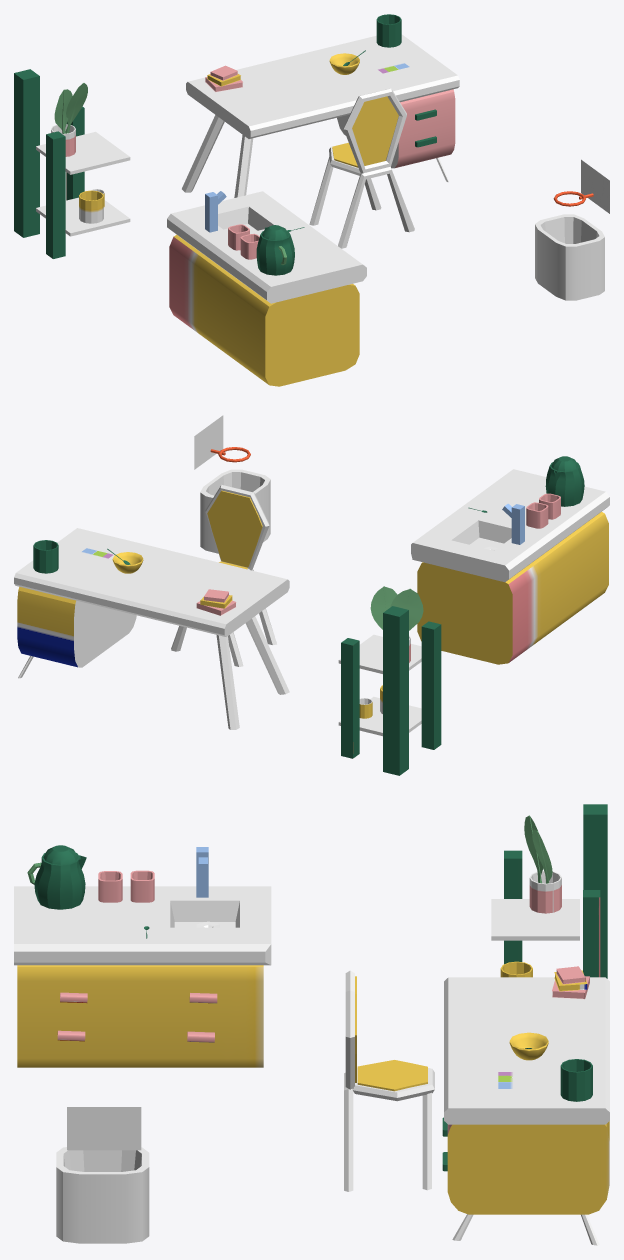
Rendered from 3D_Environment.fbx.
3 renders of one model, top to bottom at view 1: azimuth 30°, elevation 25°; view 2: azimuth 150°, elevation 25°; view 3: azimuth 270°, elevation 25°, orthographic. The views are drawn at different scales.
Parts seen in each view (by area): view 1: Desk, kitchen, stand, bench, chair2, tin1, leg, Kettle, backboard, cup1, cup, tap2 (+2 smaller); view 2: Desk, kitchen, stand, bench, chair2, tin1, leg, Kettle, backboard, cup1, plant, tap2 (+3 smaller); view 3: Desk, kitchen, bench, stand, tin1, chair2, backboard, Kettle, cup1, bowl, tin2, tin (+2 smaller).
Part boxes in pixels (x1=…): Desk: x1=186, y1=34, x2=459, y2=168; kitchen: x1=169, y1=234, x2=359, y2=386; stand: x1=14, y1=69, x2=130, y2=258; bench: x1=167, y1=191, x2=366, y2=303; chair2: x1=309, y1=88, x2=414, y2=248; tin1: x1=535, y1=214, x2=604, y2=300; leg: x1=182, y1=115, x2=253, y2=197; Kettle: x1=256, y1=225, x2=294, y2=275; backboard: x1=581, y1=159, x2=609, y2=213; cup1: x1=376, y1=14, x2=401, y2=47; cup: x1=79, y1=190, x2=103, y2=223; tap2: x1=205, y1=191, x2=226, y2=232; Desk: x1=14, y1=528, x2=289, y2=667; kitchen: x1=417, y1=511, x2=608, y2=664; stand: x1=338, y1=606, x2=441, y2=775; bench: x1=411, y1=469, x2=609, y2=582; chair2: x1=171, y1=484, x2=276, y2=666; tin1: x1=200, y1=469, x2=270, y2=553; leg: x1=216, y1=616, x2=289, y2=729; Kettle: x1=545, y1=456, x2=584, y2=506; backboard: x1=194, y1=415, x2=223, y2=469; cup1: x1=33, y1=540, x2=58, y2=573; plant: x1=390, y1=588, x2=423, y2=630; tap2: x1=502, y1=503, x2=524, y2=544; Desk: x1=442, y1=977, x2=609, y2=1214; kitchen: x1=17, y1=965, x2=263, y2=1067; bench: x1=14, y1=886, x2=271, y2=965; stand: x1=491, y1=804, x2=607, y2=978; tin1: x1=56, y1=1147, x2=149, y2=1243; chair2: x1=344, y1=970, x2=434, y2=1191; backboard: x1=67, y1=1107, x2=141, y2=1150; Kettle: x1=27, y1=845, x2=86, y2=909; cup1: x1=560, y1=1059, x2=592, y2=1101; bowl: x1=509, y1=1032, x2=548, y2=1060; tin2: x1=130, y1=870, x2=154, y2=902; tin: x1=98, y1=871, x2=122, y2=902.
Bounding box in the file's own units: 23.61 × 9.27 × 24.53.
